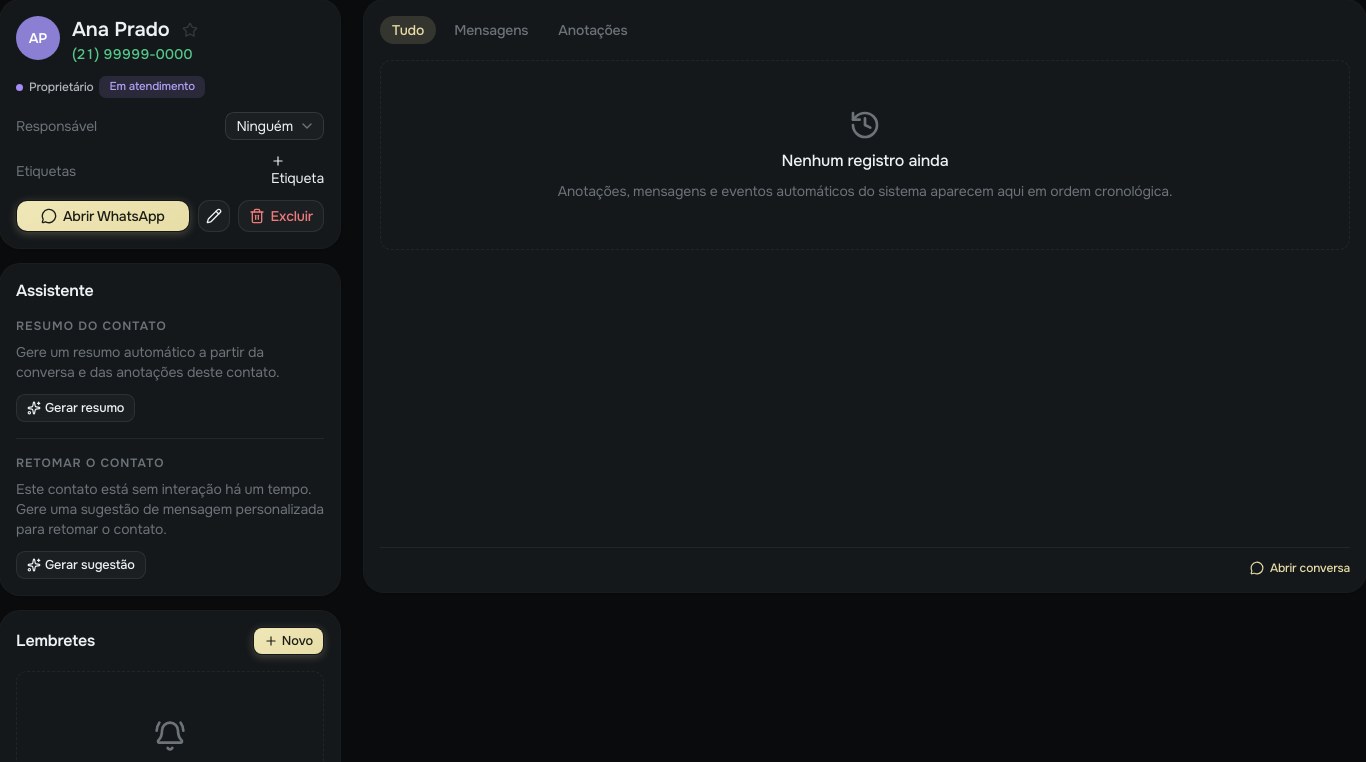
Ficha do contato — anotação, não mensagem › só oferece o campo de anotação no filtro Anotações
Expected: the field labelled "Nova anotação" is not shown
Click the button "Mensagens" at (491, 30), box [442,16,540,44]
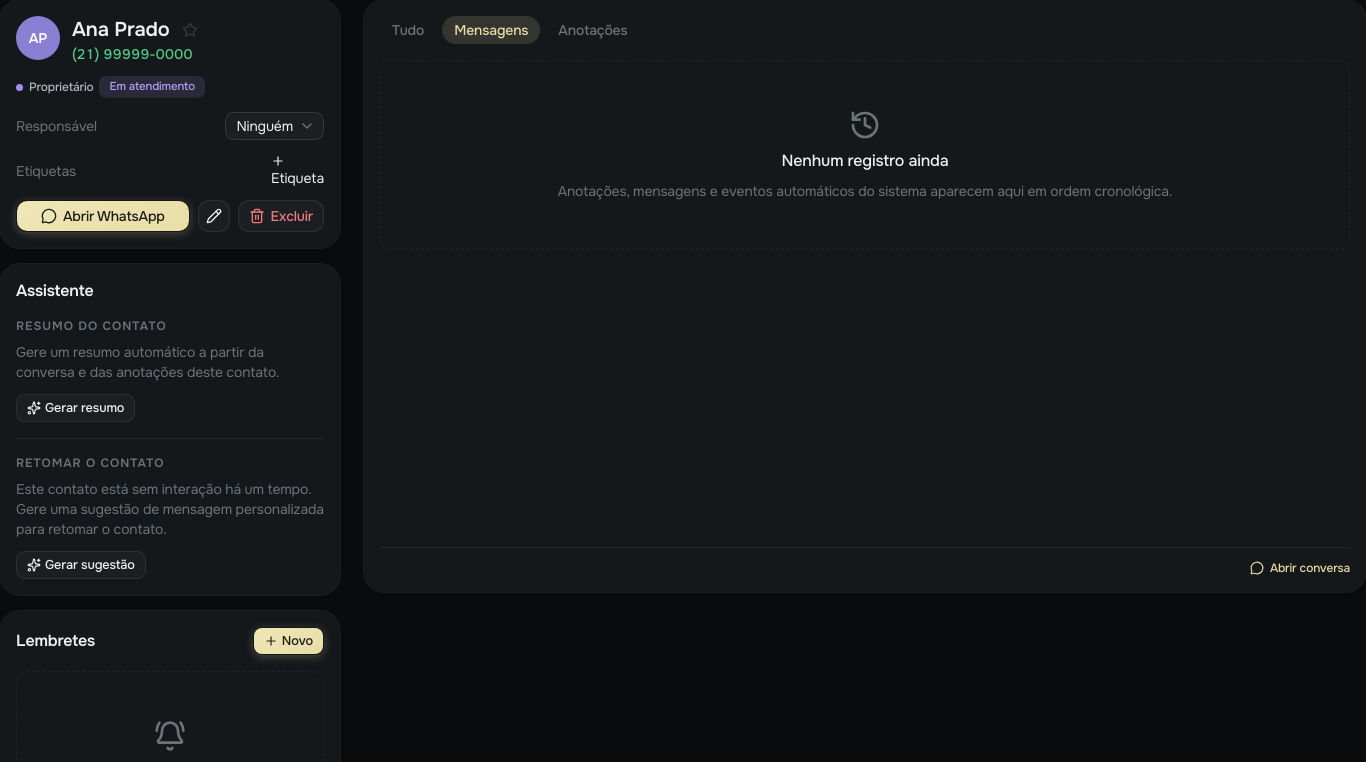
Expected: the field labelled "Nova anotação" is not shown
Click the button "Anotações" at (593, 30), box [546,16,640,44]
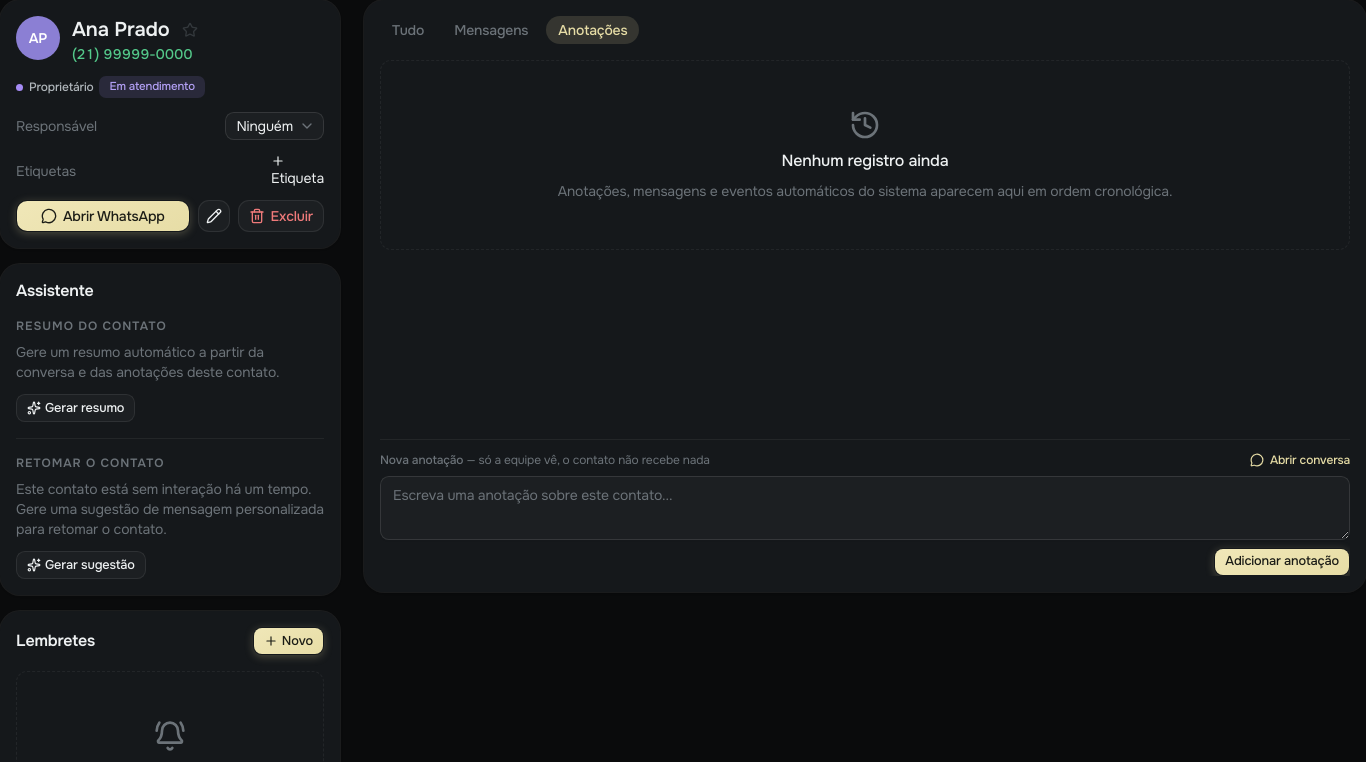
Now the text box named "Nova anotação" is shown, box [380,476,1350,540]
Now the button "Adicionar anotação" is shown, box [1214,548,1350,576]
Click the button "Tudo" at (408, 30), box [380,16,436,44]
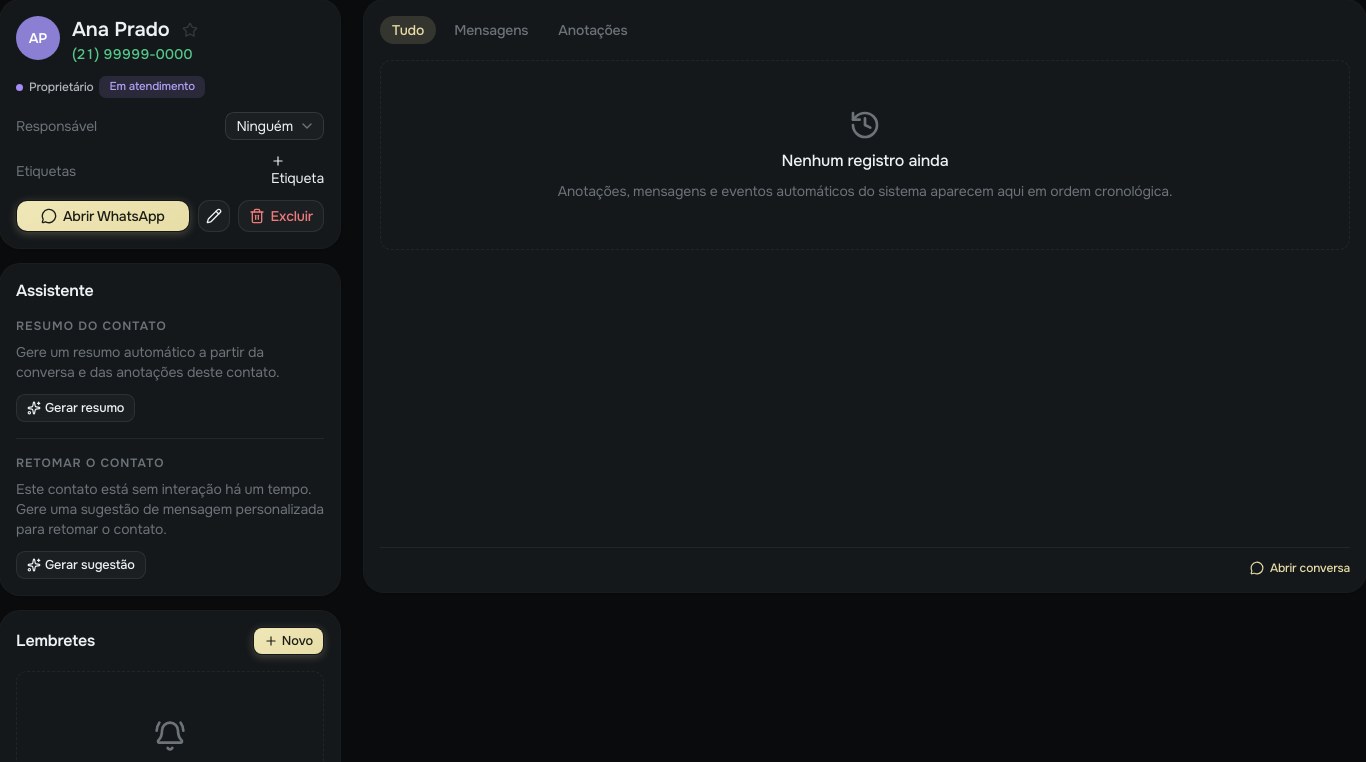
Now the field labelled "Nova anotação" is gone
